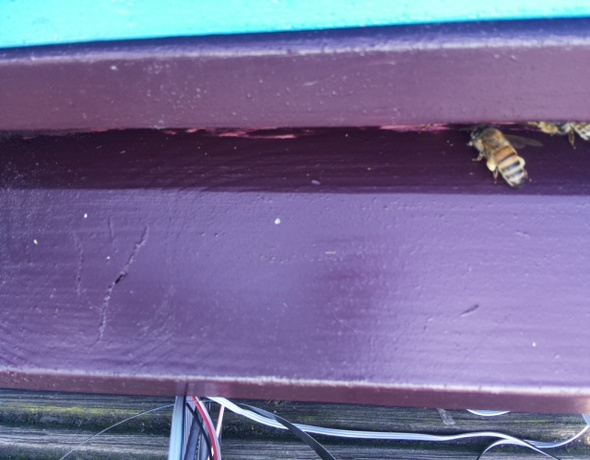no_pollen: (534, 112, 590, 142)
pollen: (465, 121, 533, 192)
